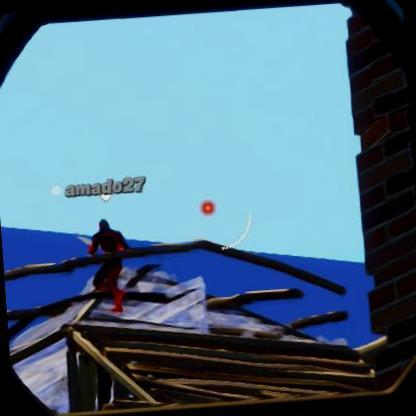person: (86, 216, 134, 314)
